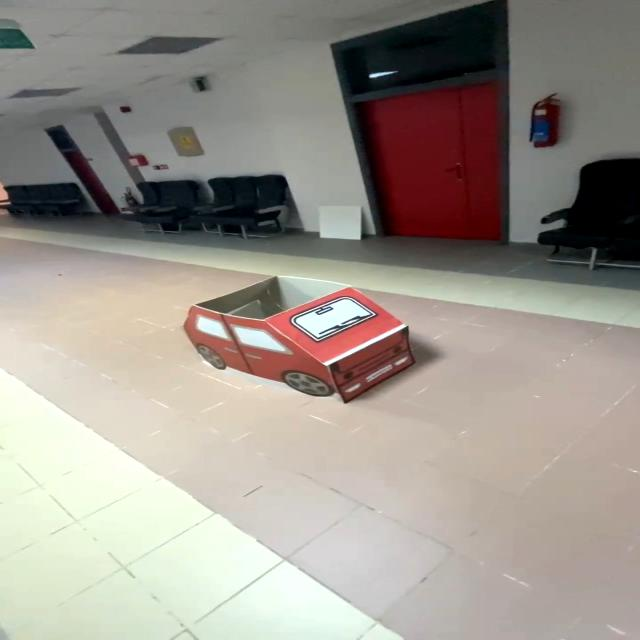red_car: (158, 262, 456, 415)
